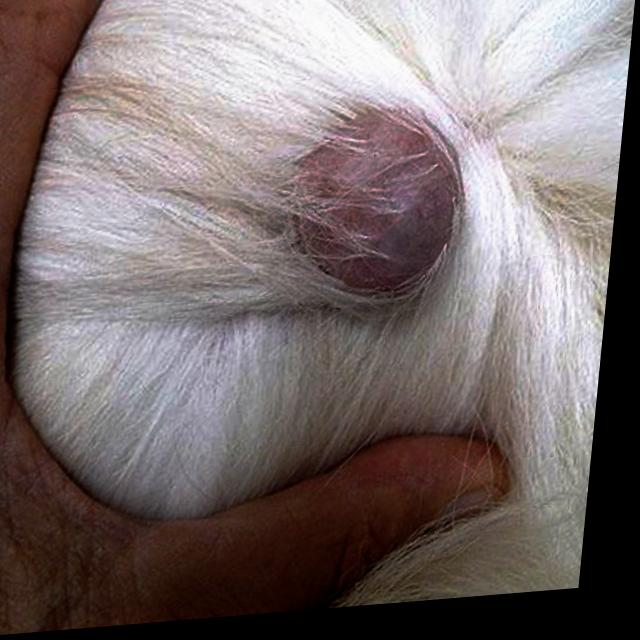lump_and_bump: (292, 122, 458, 294)
